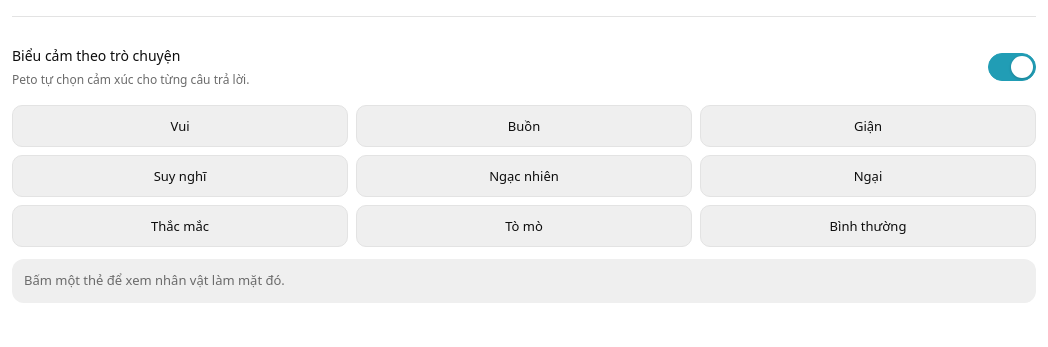
it: VRM characters use the model’s own expressions, with no source to pick
Click the button "Tò mò" at (524, 226), box [356,205,692,247]
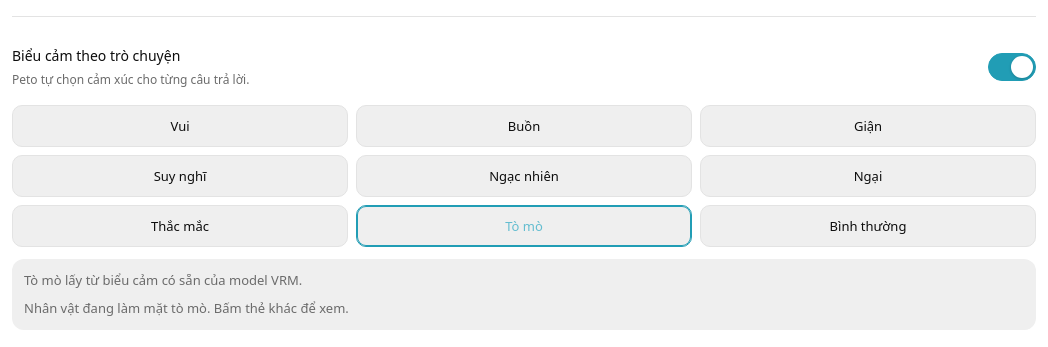
Expected: the text "Tò mò lấy từ biểu cảm có sẵn của model VRM." is shown, [24,271,302,289]
